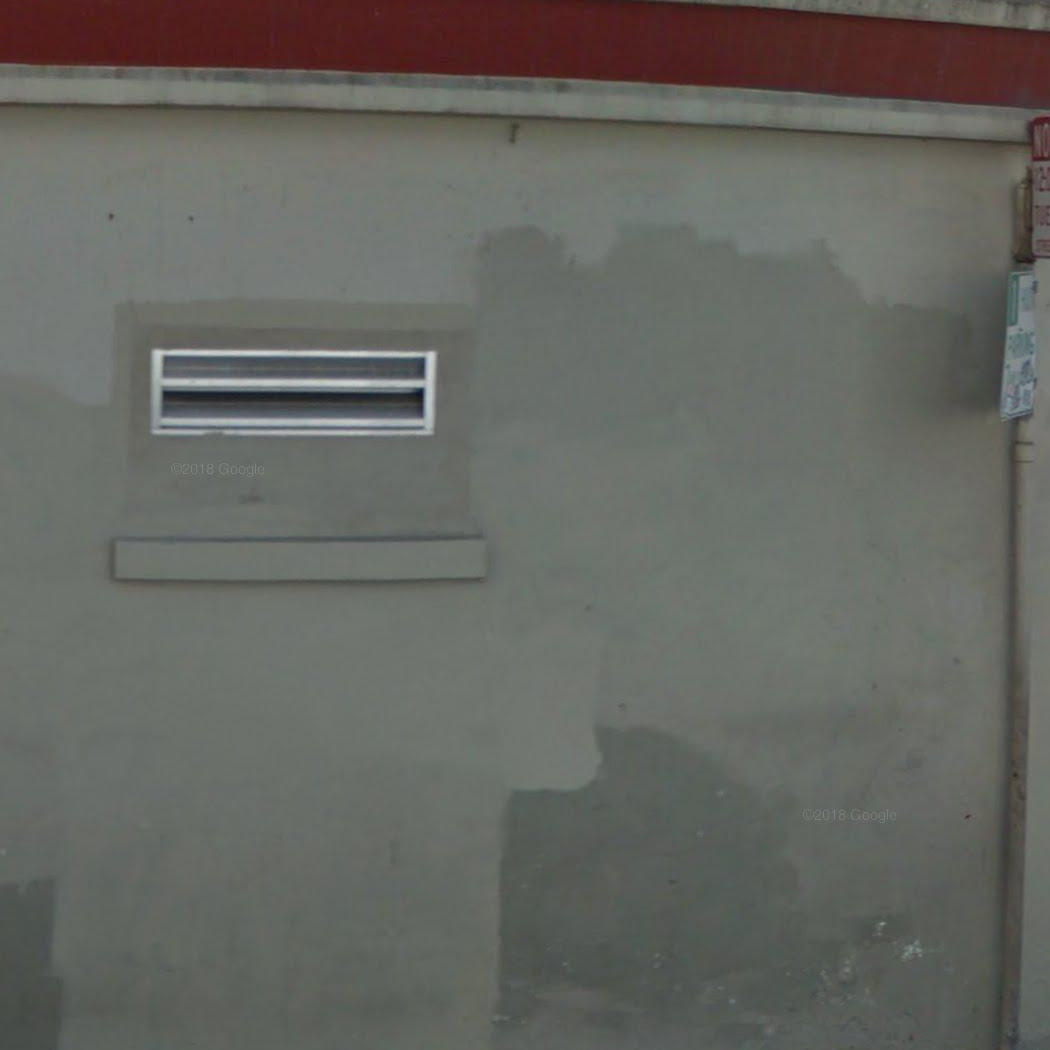No Parking: (1026, 116, 1048, 263)
